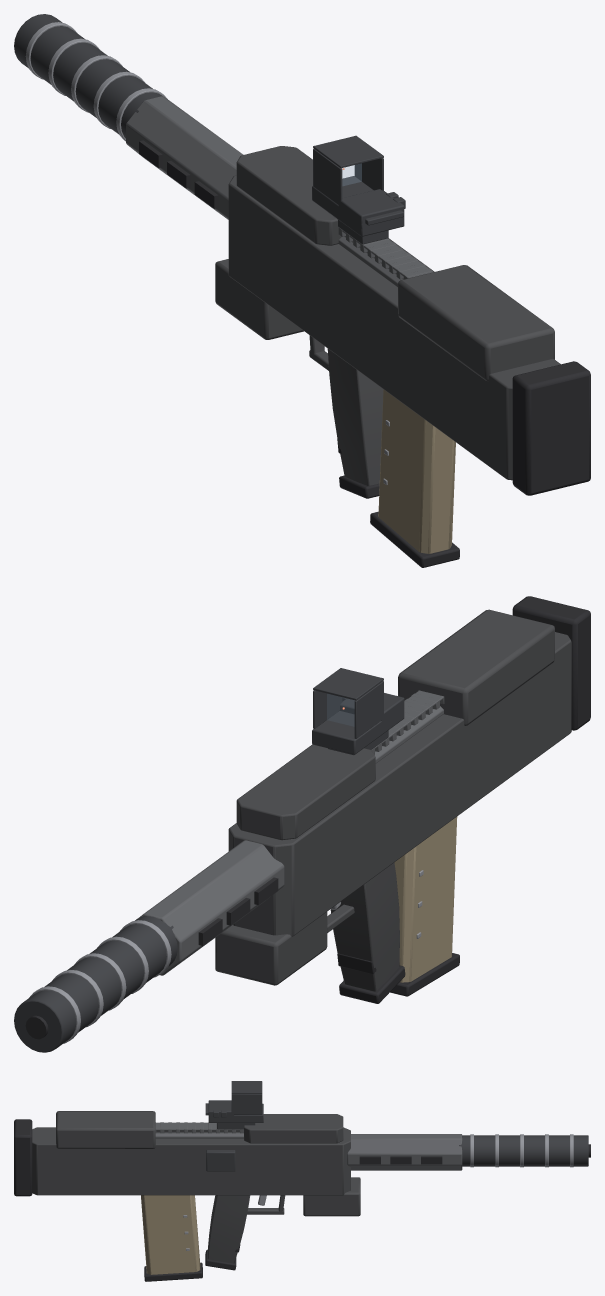
File: fusil_bullpup.glb
3 views of the same model, one above another, from view 1: azimuth 30°, elevation 25°; view 2: azimuth 150°, elevation 25°; view 3: azimuth 270°, elevation 25° (orthographic). The views are drawn at different scales.
Visible parts, largest first — view 1: fusil_bullpup, Cargador; view 2: fusil_bullpup, Cargador, Cristal; view 3: fusil_bullpup, Cargador.
Part boxes in pixels (bbox=[...]): fusil_bullpup: bbox=[14, 14, 590, 498]; Cargador: bbox=[370, 389, 459, 567]; fusil_bullpup: bbox=[14, 596, 590, 1052]; Cargador: bbox=[390, 816, 459, 996]; Cristal: bbox=[327, 694, 354, 726]; fusil_bullpup: bbox=[14, 1081, 590, 1270]; Cargador: bbox=[141, 1195, 202, 1281].
Bounding box in the file's own units: 0.0635 × 0.274 × 0.753.
